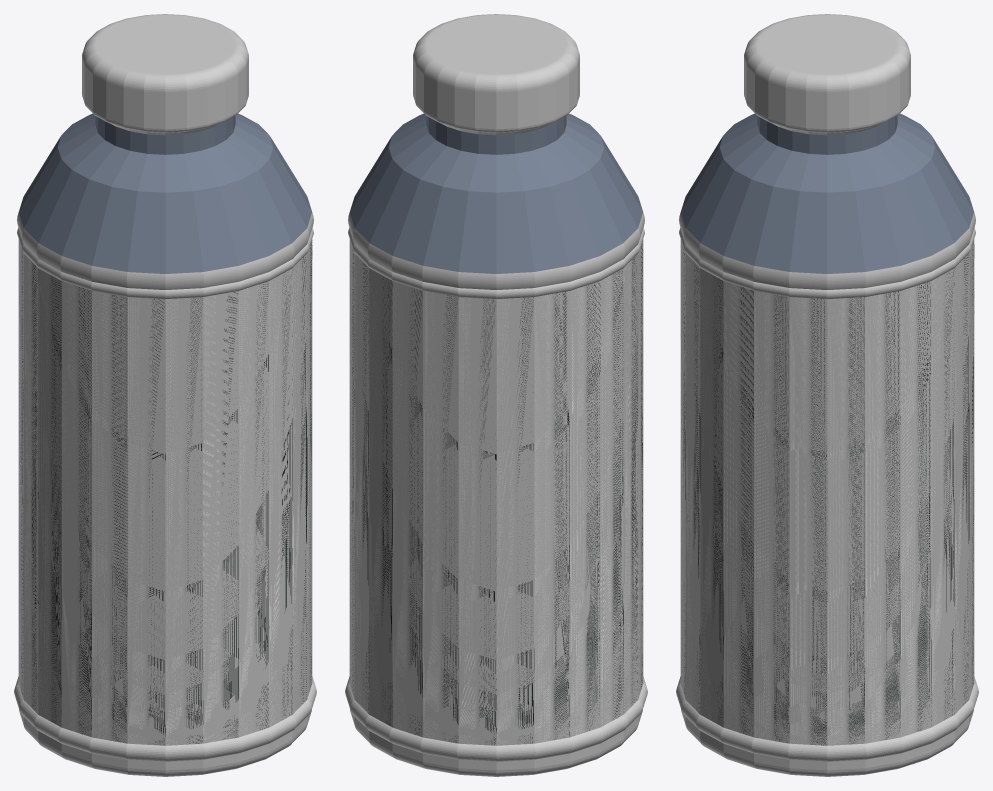
The picture shows the model from 3 angles, left to right: view 1: azimuth 30°, elevation 25°; view 2: azimuth 150°, elevation 25°; view 3: azimuth 270°, elevation 25°; orthographic projection.
Visible parts, largest first — view 1: mesh1_mesh1-geometry; view 2: mesh1_mesh1-geometry; view 3: mesh1_mesh1-geometry.
Boxes of the visible parts, x1=… form: mesh1_mesh1-geometry: x1=14, y1=14, x2=316, y2=776; mesh1_mesh1-geometry: x1=345, y1=14, x2=647, y2=776; mesh1_mesh1-geometry: x1=676, y1=14, x2=978, y2=776.
Size of the model in its own units: 0.3529 by 0.8665 by 0.3529.
